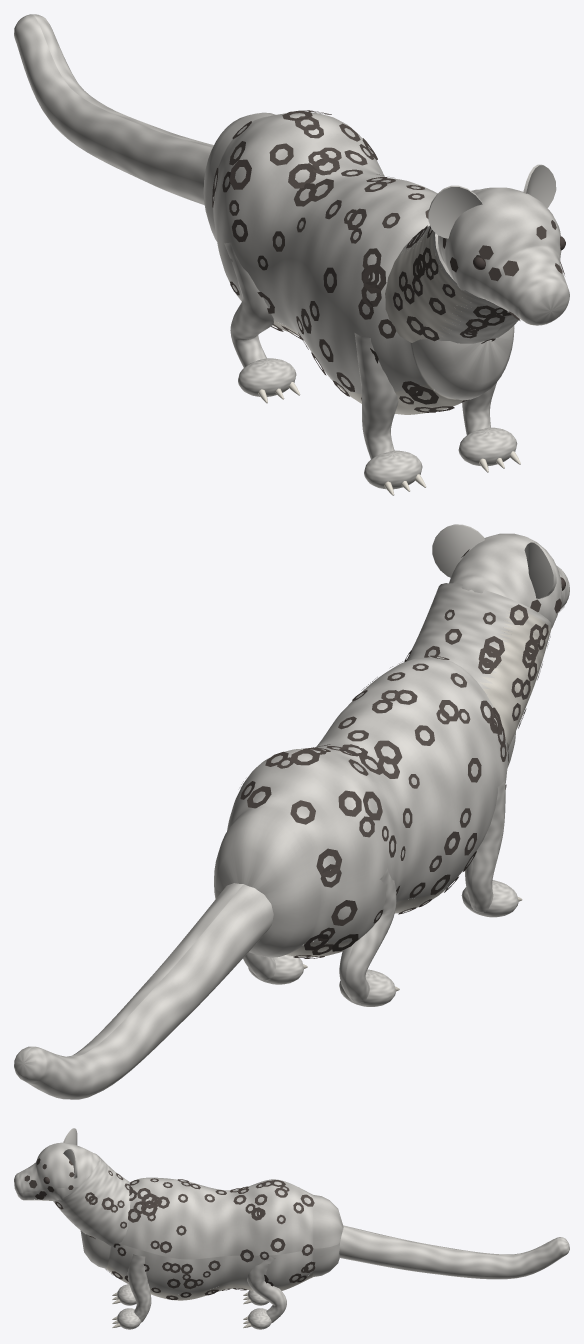
The model's file is other-snow-leopard.glb.
The picture shows the model from 3 angles, top to bottom: view 1: azimuth 30°, elevation 25°; view 2: azimuth 150°, elevation 25°; view 3: azimuth 270°, elevation 25°; orthographic projection. The views are drawn at different scales.
Visible parts, largest first — view 1: snow-leopard; view 2: snow-leopard; view 3: snow-leopard.
Part boxes in pixels (x1,y1,x2,y2): snow-leopard: (14, 14, 569, 495); snow-leopard: (14, 524, 569, 1099); snow-leopard: (14, 1128, 569, 1329).
Size of the model in its own units: 0.3821 by 0.8055 by 2.31.
6 materials, 3 textured.
